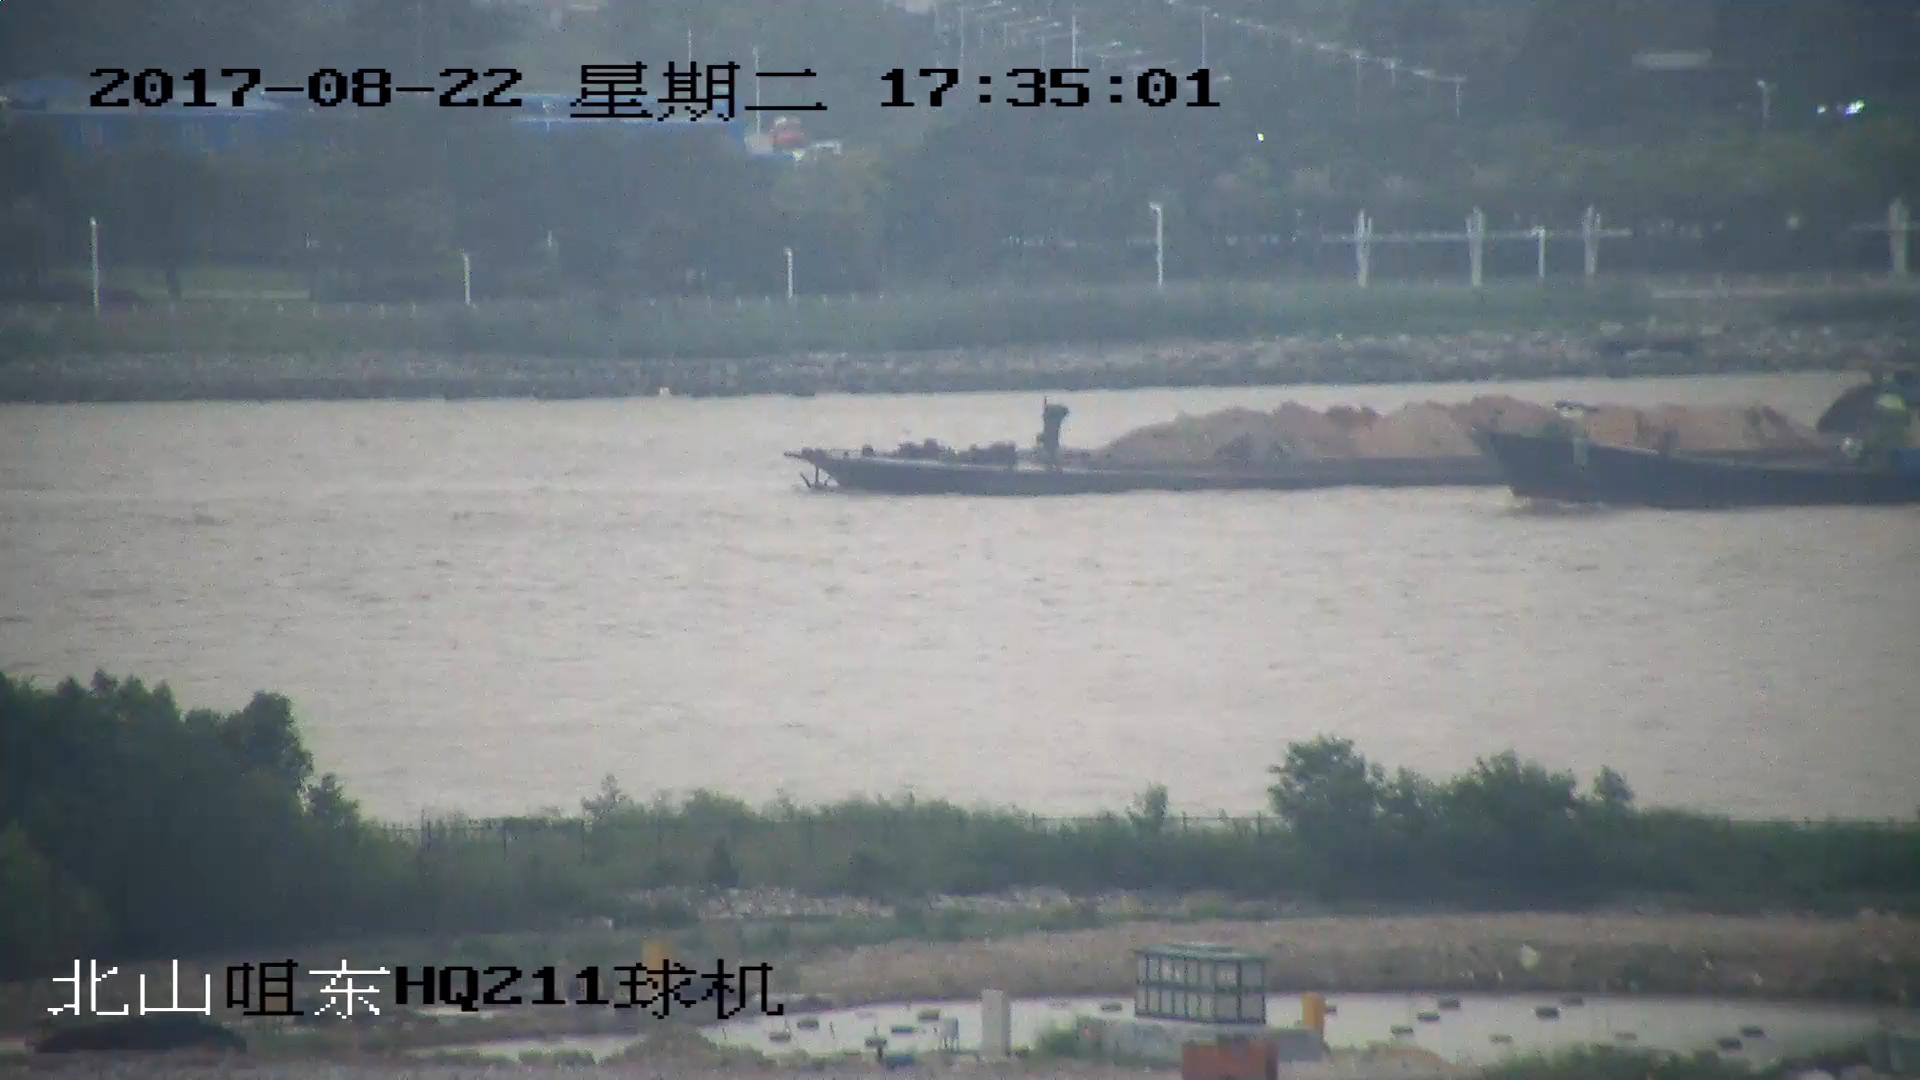fishing boat: (1476, 405, 1920, 517)
ore carrier: (789, 395, 1920, 490)
